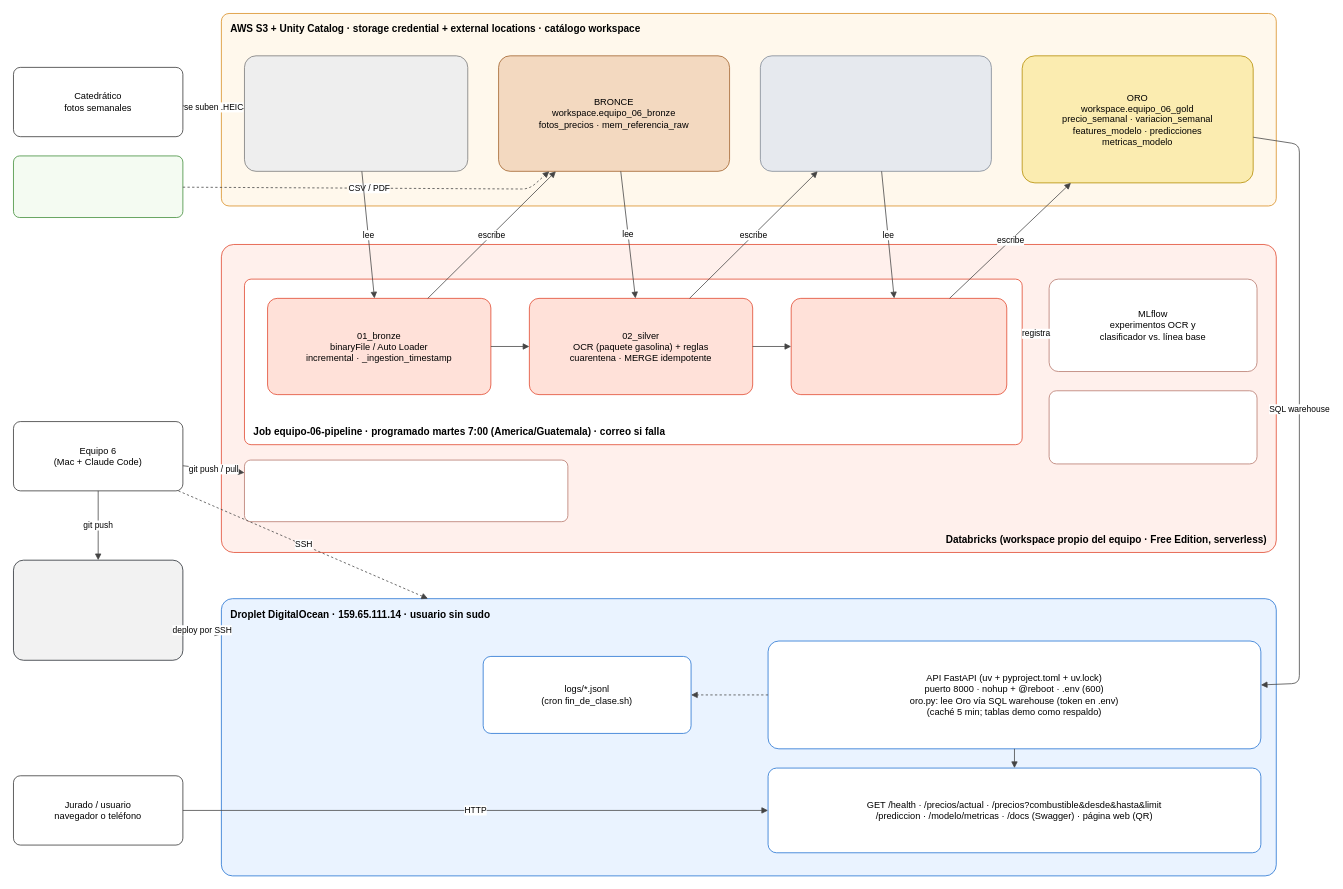
The diagram is 1343 pixels wide and 889 high, and some of its shapes have lost their labels. Here are the shapes that lost their labels. From the top down, the centre of each, then its label:
point 356,113: FOTOS (S3, solo lectura) xloc-raw: s3://cc3105-raw/img/ 110 .HEIC/.JPG con EXIF
point 875,113: PLATA workspace.equipo_06_silver precios · precios_rejected · mem
point 98,186: MEM (histórico de precios de referencia)
point 898,346: 03_gold semana martes-lunes · variación features · modelo · predicciones
point 1152,427: Cómputo serverless notebooks (desarrollo) y Job
point 406,490: Git folder (repo sincronizado) notebooks de pipelines/
point 98,609: GitHub equipo-06-gasolina-gt Actions: ruff + pytest + imagen GHCR · deploy
